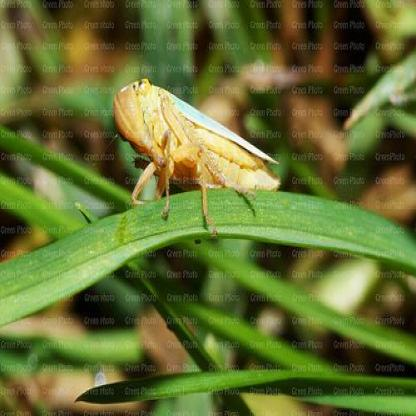Green-Leafhopper: (106, 70, 283, 235)
